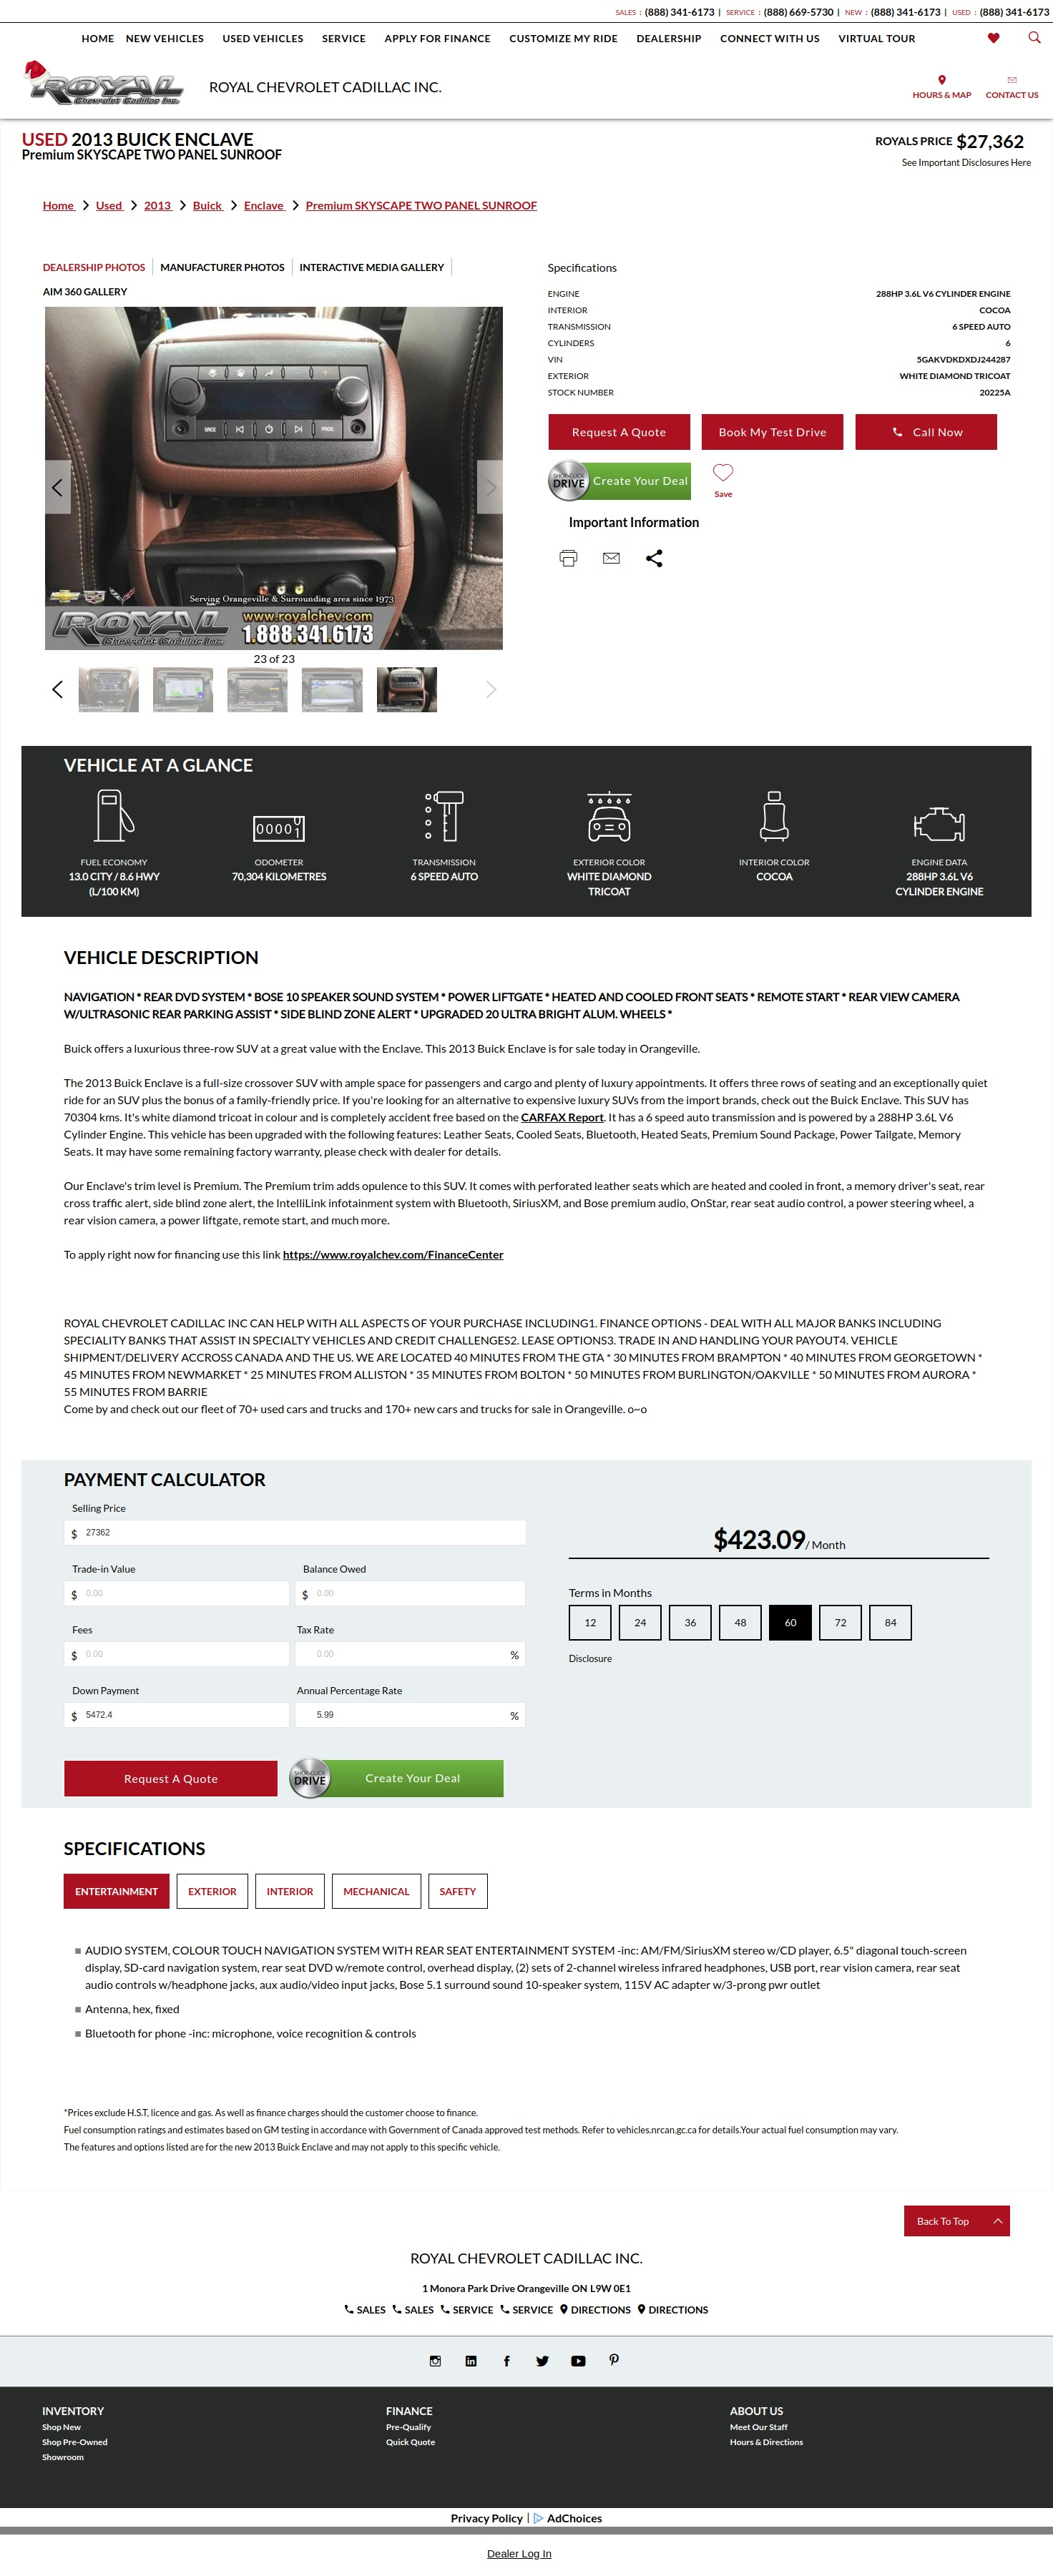car: (486, 680, 498, 700)
